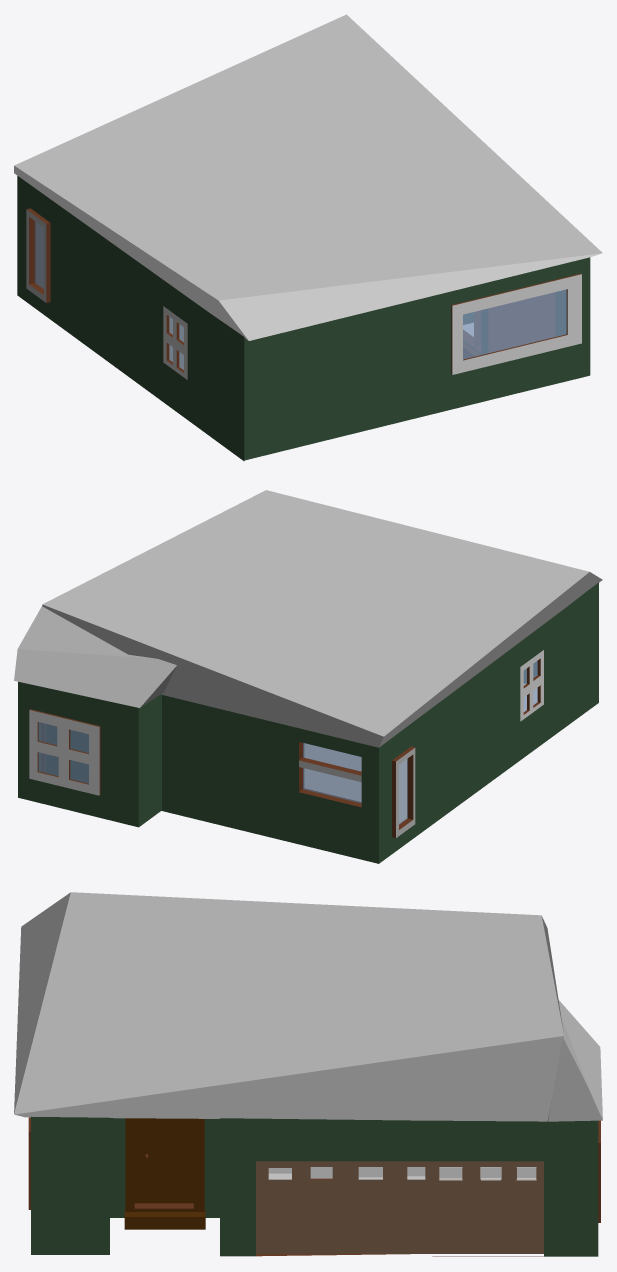
Rendered from house10.fbx.
3 renders of one model, top to bottom at view 1: azimuth 30°, elevation 25°; view 2: azimuth 150°, elevation 25°; view 3: azimuth 270°, elevation 25°, orthographic. The views are drawn at different scales.
Visible parts, largest first — view 1: house10, Cube; view 2: house10, Cube; view 3: house10.
Part boxes in pixels (<box>): house10: <box>14,14,602,460</box>; Cube: <box>34,221,43,289</box>; house10: <box>14,490,602,863</box>; Cube: <box>399,758,407,824</box>; house10: <box>14,892,602,1256</box>.
Bounding box in the file's own units: 2078 × 1073 × 2603.
